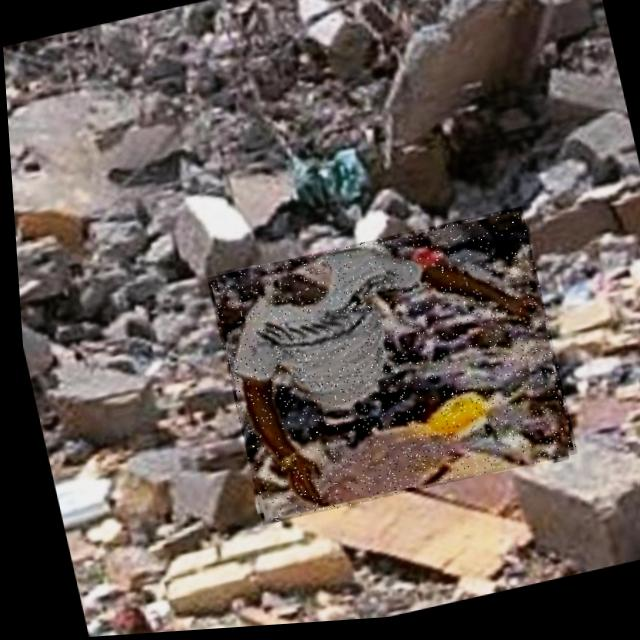Person in Rubble: (200, 211, 574, 530)
